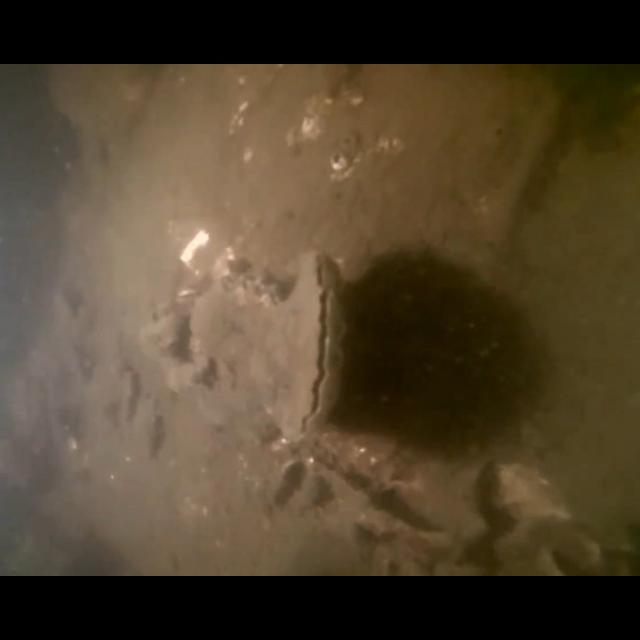Oyster-Open: (252, 249, 352, 446), (188, 272, 284, 414)
